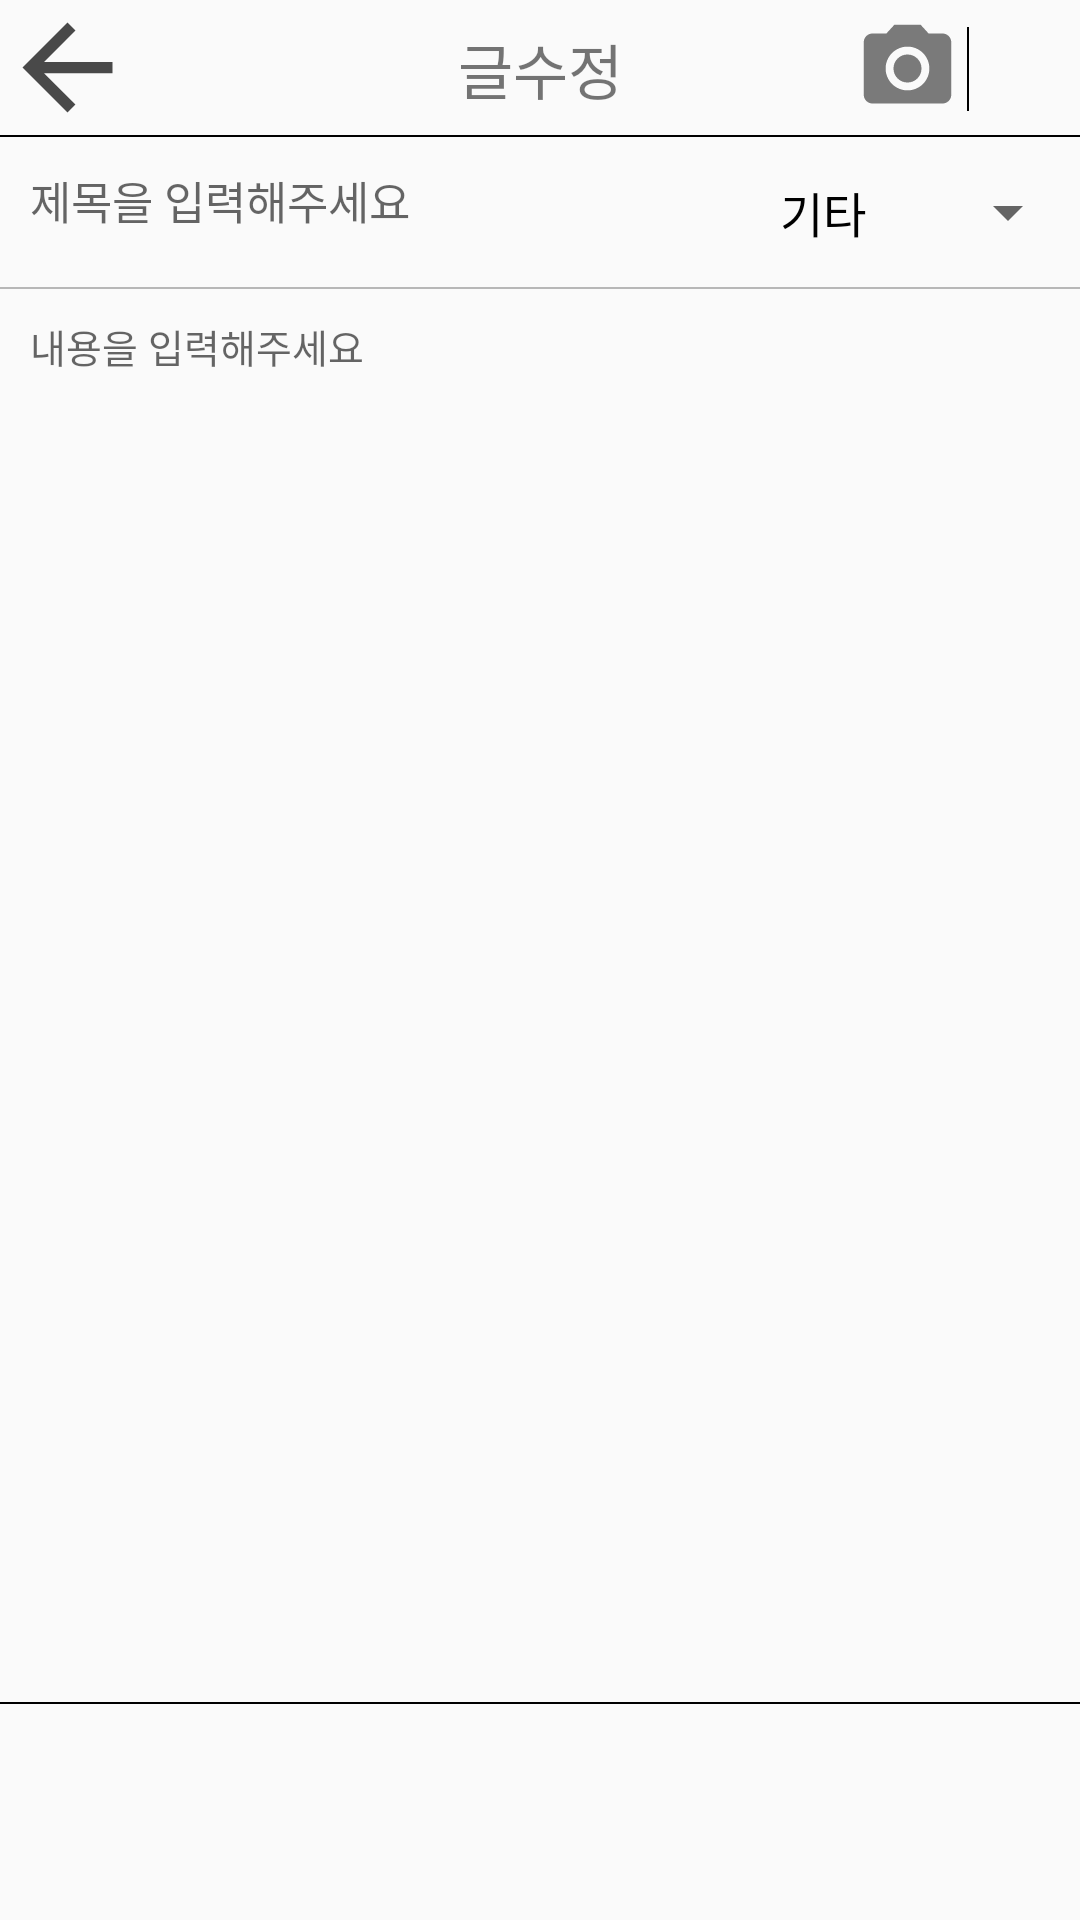

Where icons sit on this 1080px x 1920px app screen, as (x1, y1, x2, y2):
arrow back: (22, 22, 113, 113)
write forum camera: (863, 24, 952, 104)
